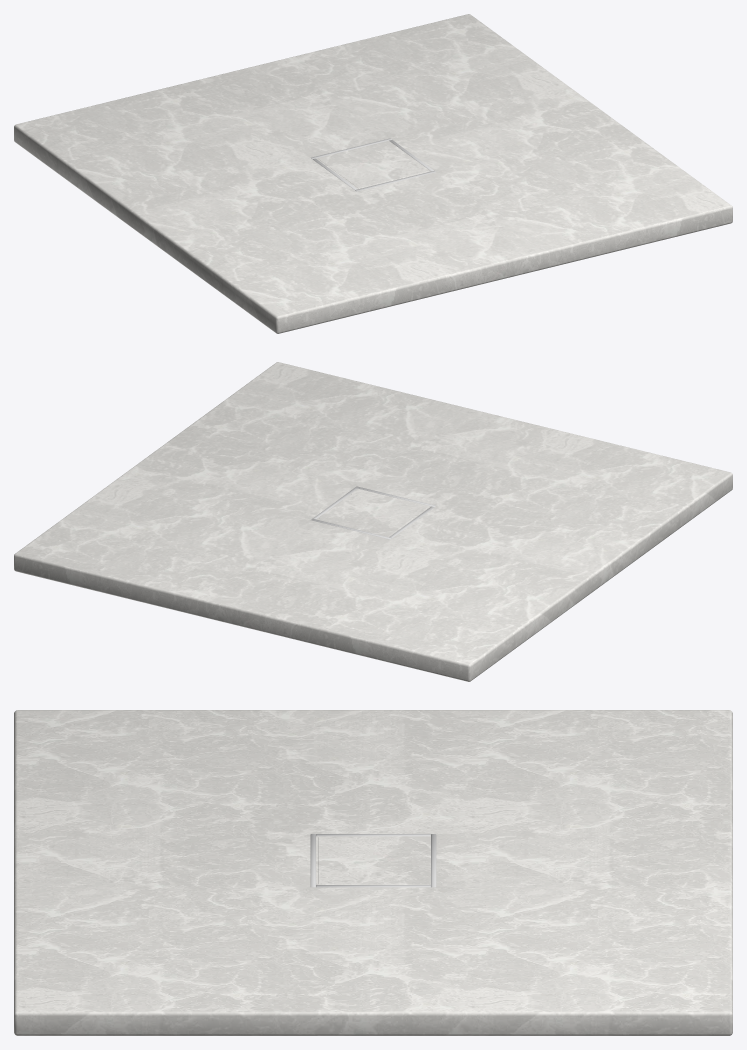
Rendered from plato_ducha_80x80.glb.
3 views of the same model, one above another, from view 1: azimuth 30°, elevation 25°; view 2: azimuth 150°, elevation 25°; view 3: azimuth 270°, elevation 25° (orthographic). The views are drawn at different scales.
Visible parts, largest first — view 1: plato_ducha_80x80; view 2: plato_ducha_80x80; view 3: plato_ducha_80x80.
Boxes of the visible parts, x1,y1,x2,y2 form: plato_ducha_80x80: [14, 14, 732, 333]; plato_ducha_80x80: [14, 362, 732, 681]; plato_ducha_80x80: [14, 710, 732, 1035].
Bounding box in the file's own units: 0.8 × 0.0304 × 0.8.
Materials: 2 (1 with a texture image).
